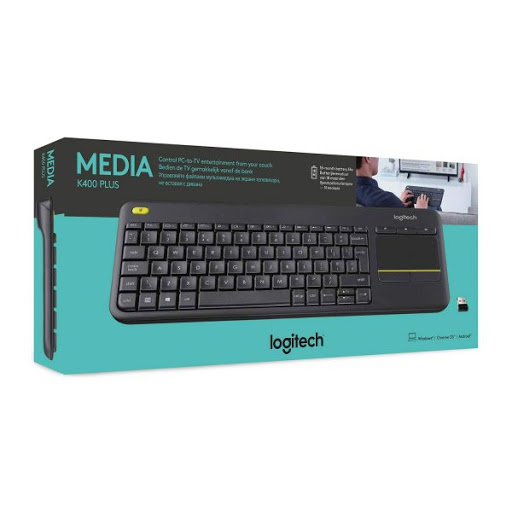logitech-keyboard-k400: (106, 207, 445, 321)
